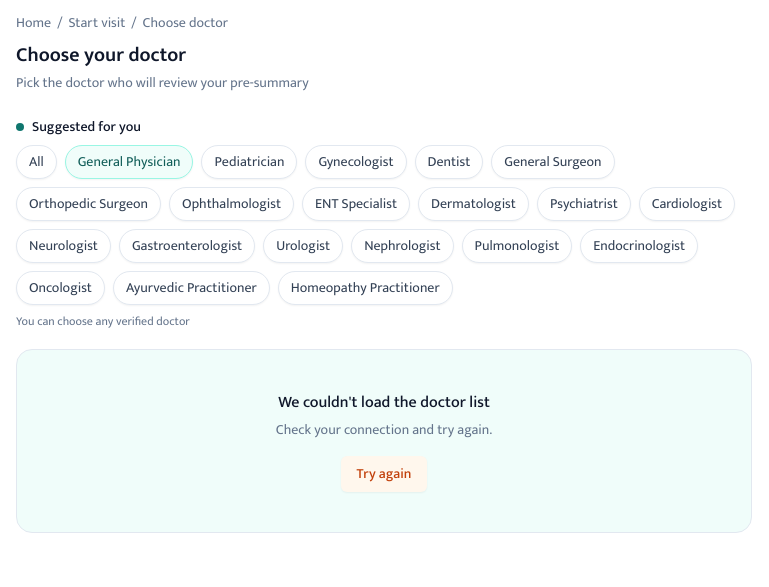
PickDoctorPage failure paths › retries the doctor list from the directory error state
Expected: the element with test id "pick-error" is shown, [16, 349, 752, 533]
Step 1. Click the button "Try again" → [384, 474], box [341, 456, 427, 492]
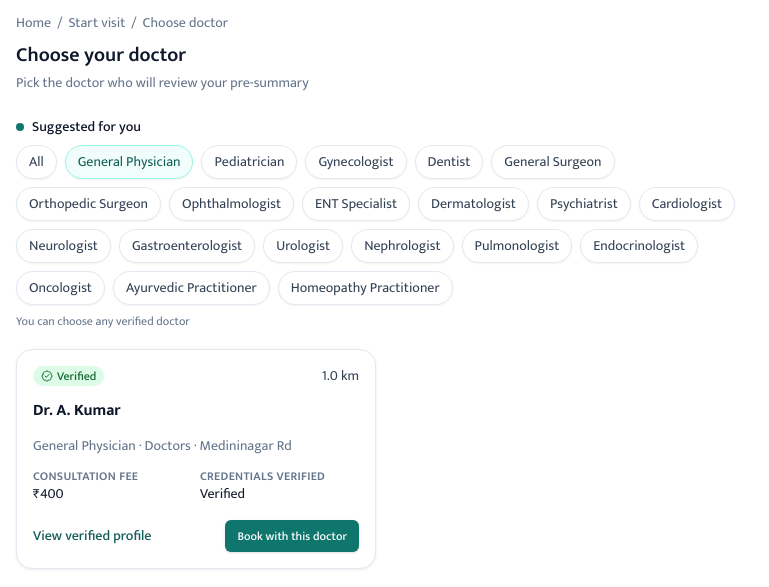
Expected: the element with test id "pick-cards" is shown, [16, 349, 376, 569]
